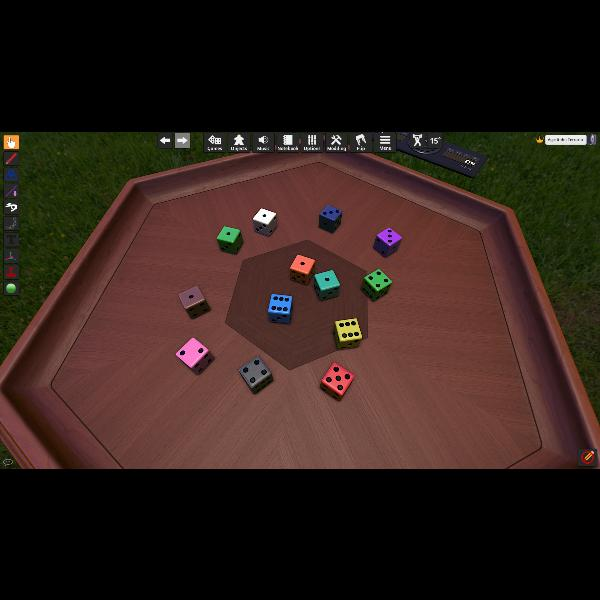d6: (176, 336, 214, 374), (320, 362, 354, 400), (238, 356, 272, 394), (178, 284, 209, 318), (361, 268, 391, 301), (334, 317, 362, 349), (373, 226, 401, 258), (312, 270, 338, 300), (267, 293, 293, 323), (289, 254, 313, 284), (318, 204, 342, 234), (216, 225, 241, 253), (253, 208, 277, 236)
